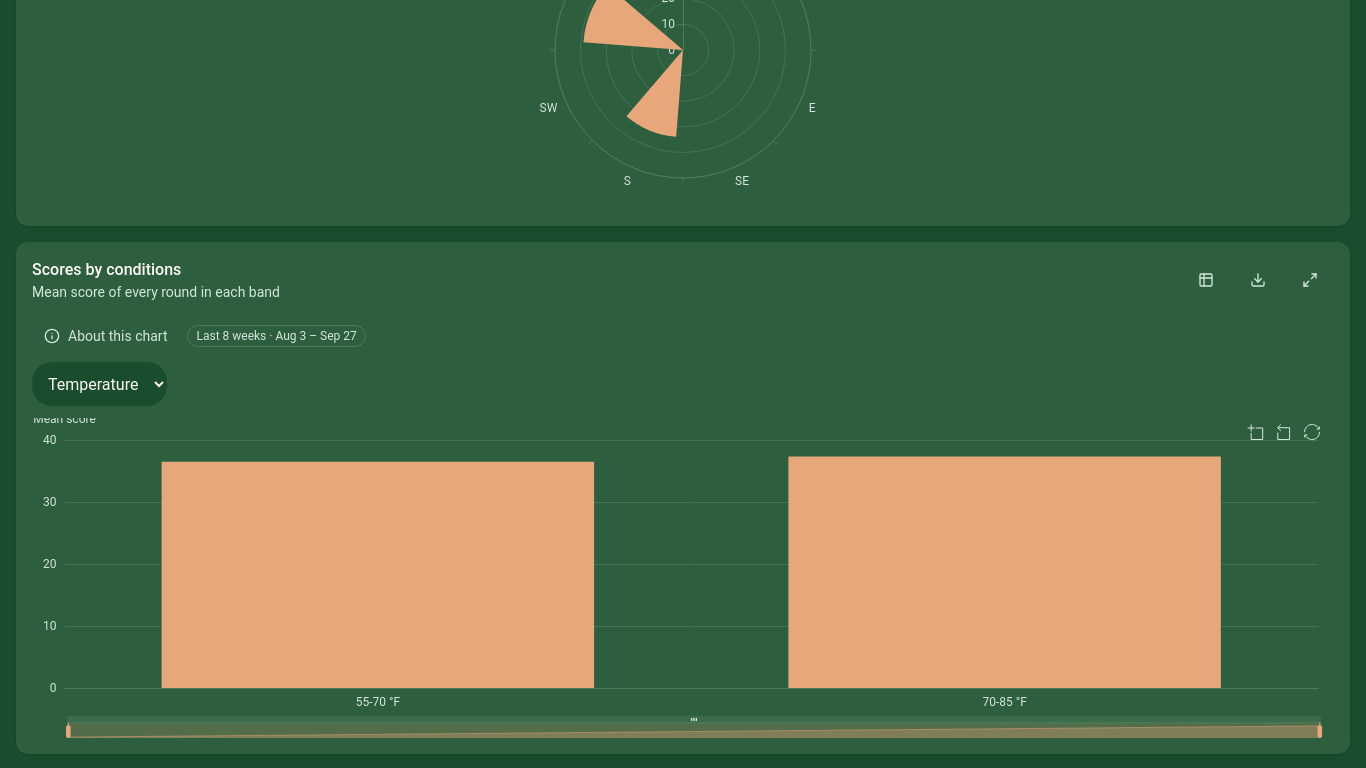
Scenario: WeatherPage › offers Time of year, winter to fall, in both band charts
(page scrolled)
Select "Time of year" in the dropdown named "Group scores by" at (100, 384), box [32,362,167,406]
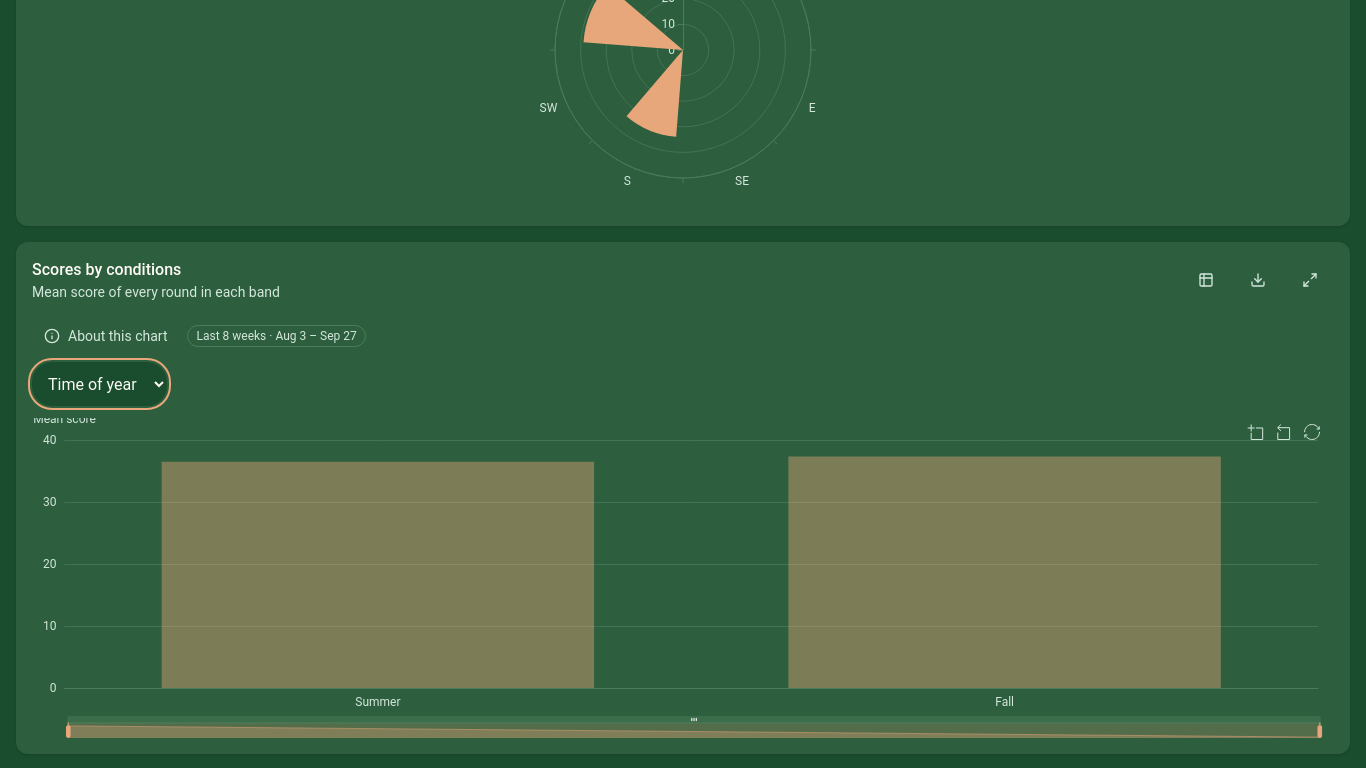
Click the button named "Table".
click(1206, 280)  # box [1182,258,1230,302]
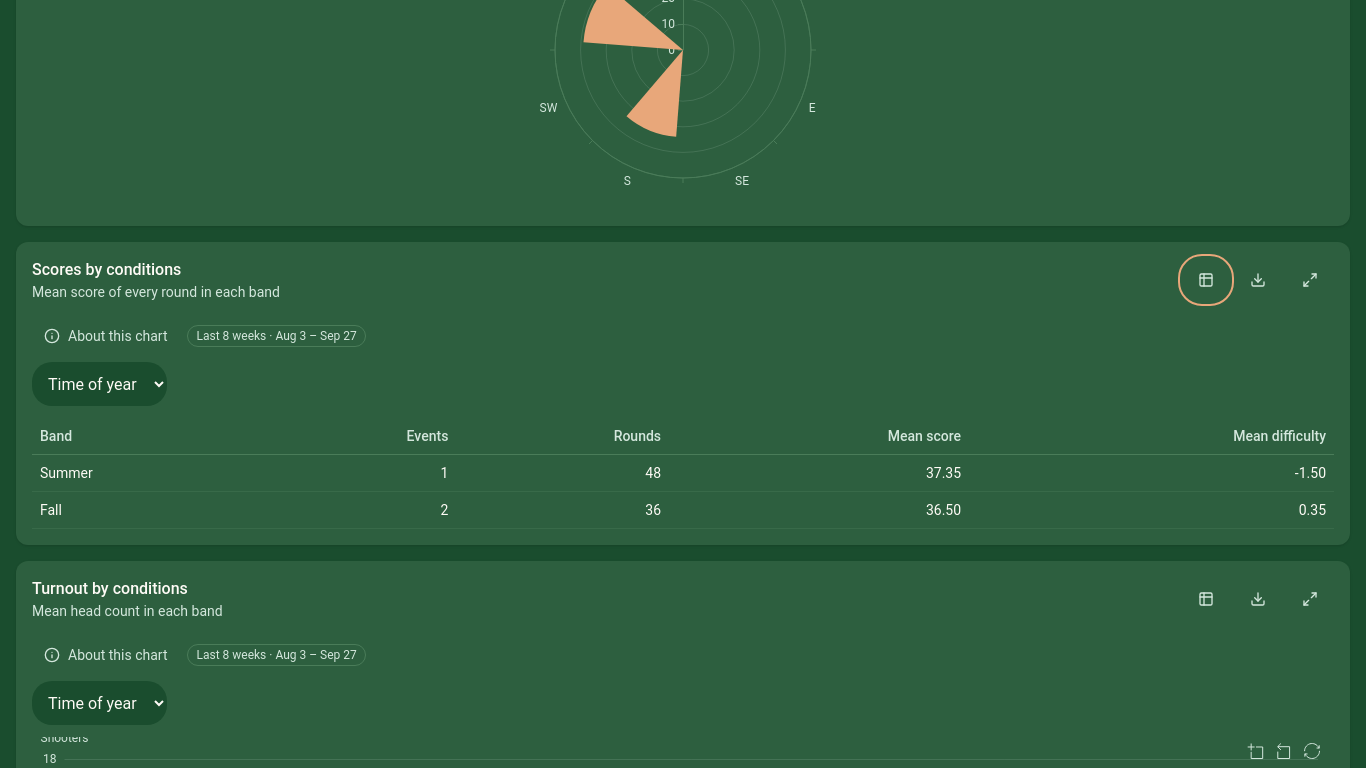
expect the cell "Summer" is shown: met, box [32,455,263,492]
expect the cell "Fall" is shown: met, box [32,492,263,528]
Click the button named "Table" in the row of "Mean head count in each band".
click(1206, 599)  # box [1182,577,1230,621]
(page scrolled)
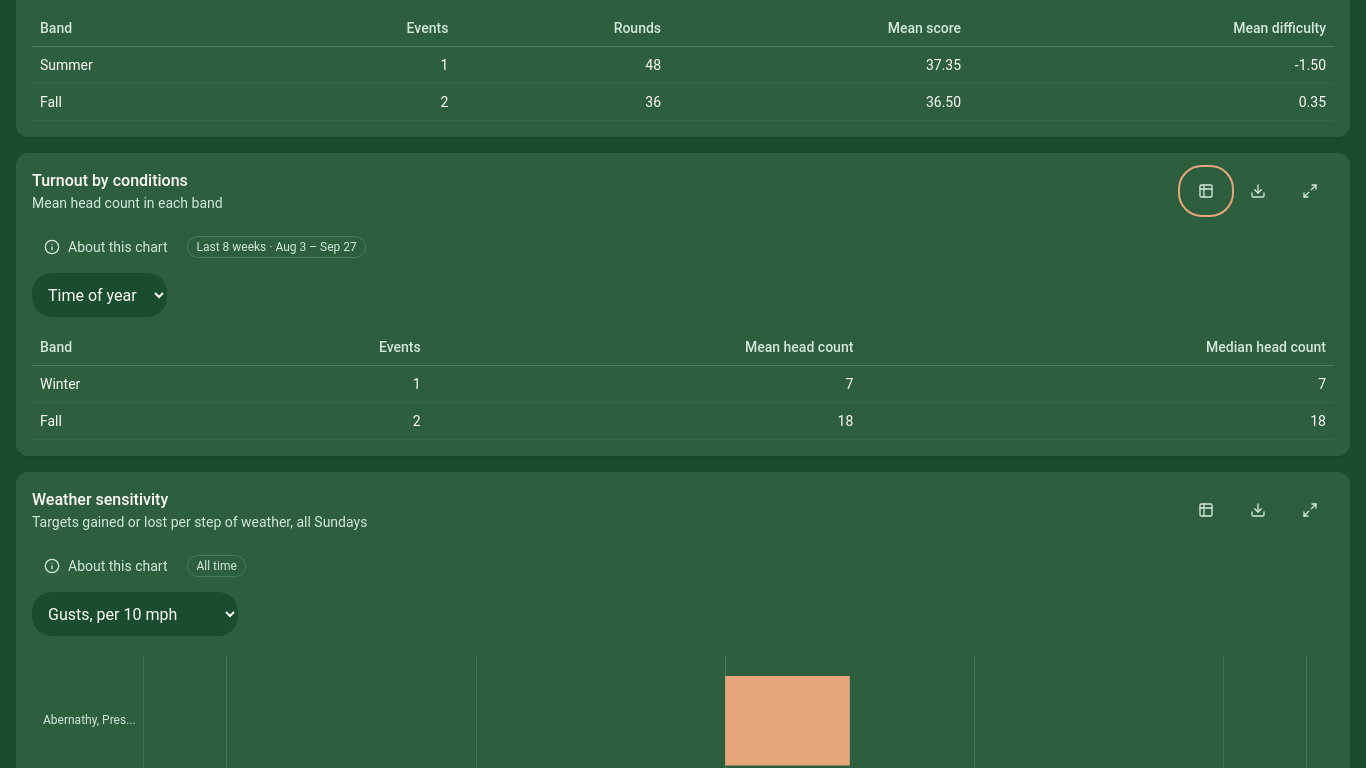
expect the cell "Winter" is shown: met, box [32,366,228,402]
